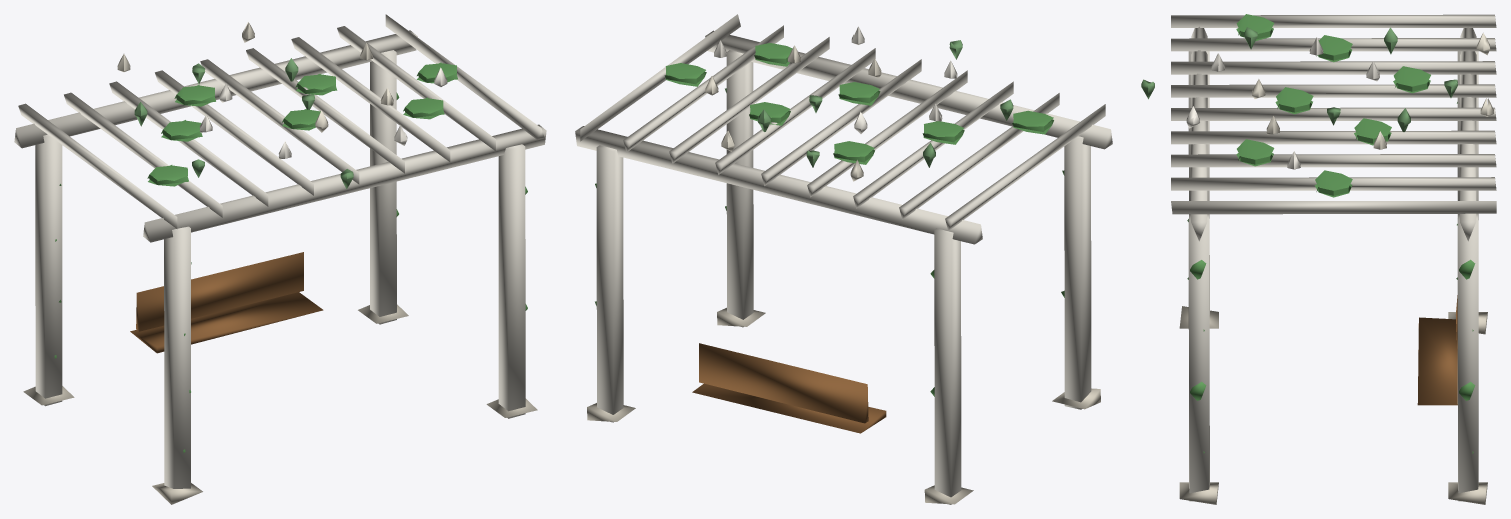
File: lod_pergola_flowers.glb
3 views of the same model, side by side, from view 1: azimuth 30°, elevation 25°; view 2: azimuth 150°, elevation 25°; view 3: azimuth 270°, elevation 25° (orthographic). The views are drawn at different scales.
Visible parts, largest first — view 1: pergola_flowers; view 2: pergola_flowers; view 3: pergola_flowers.
Part boxes in pixels (bbox=[...]): pergola_flowers: bbox=[14, 14, 546, 504]; pergola_flowers: bbox=[575, 14, 1112, 504]; pergola_flowers: bbox=[1141, 14, 1496, 504].
Bounding box in the file's own units: 4.31 × 3.32 × 3.17.
